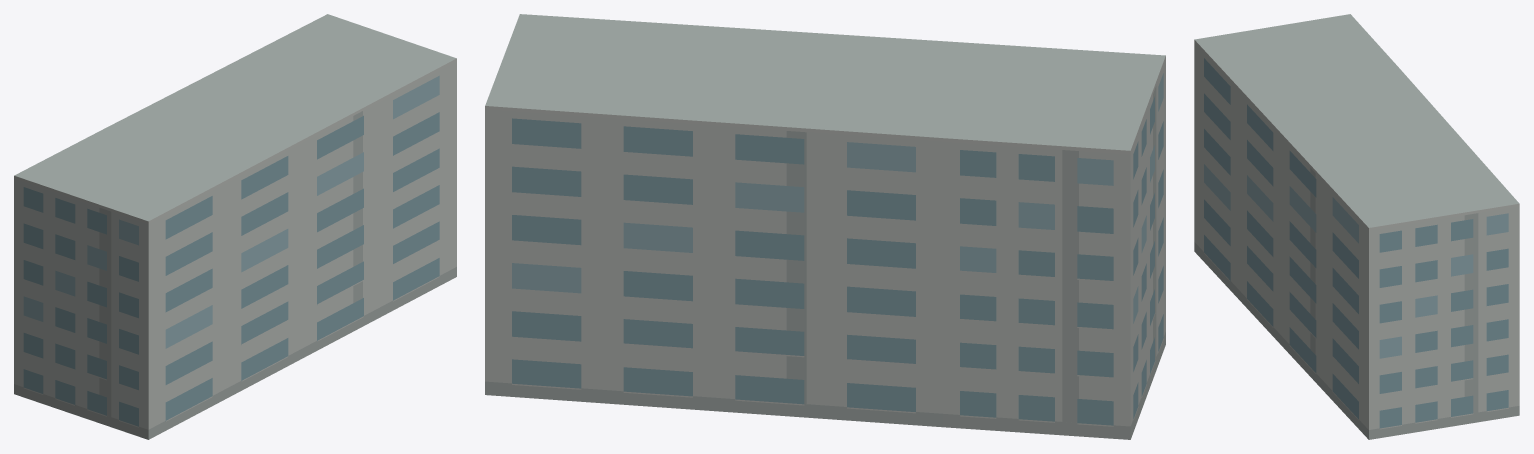
File: survey-upis-32834256.glb
The picture shows the model from 3 angles, left to right: view 1: azimuth 30°, elevation 25°; view 2: azimuth 150°, elevation 25°; view 3: azimuth 270°, elevation 25°; orthographic projection. The views are drawn at different scales.
Parts seen in each view (by area): view 1: survey-upis-32834256.tmp; view 2: survey-upis-32834256.tmp; view 3: survey-upis-32834256.tmp.
Boxes of the visible parts, left/top/right/bottom form: survey-upis-32834256.tmp: left=14, top=14, right=456, bottom=439; survey-upis-32834256.tmp: left=485, top=14, right=1165, bottom=439; survey-upis-32834256.tmp: left=1194, top=14, right=1519, bottom=439.
Size of the model in its own units: 40.72 by 18.8 by 26.16.
